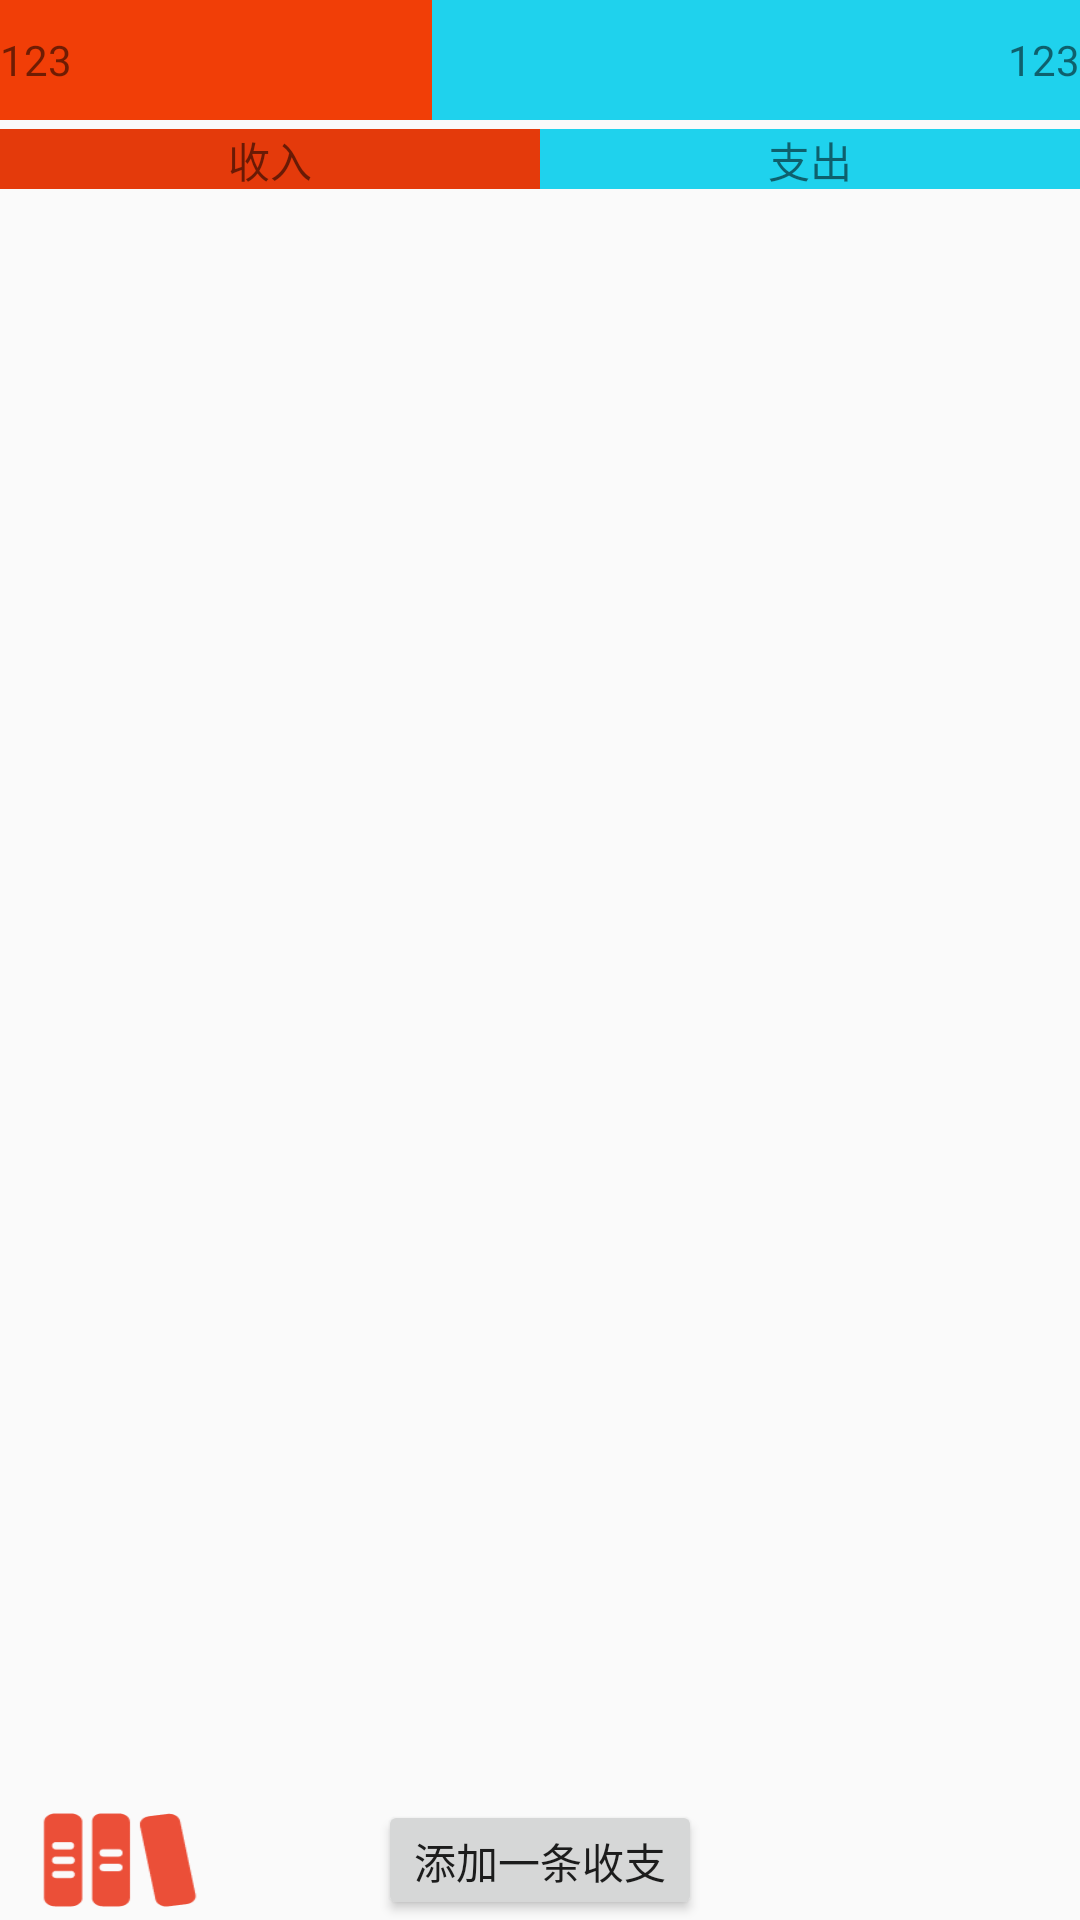

Named icons in this screenshot (1080px x 1920px) and their centers, point (x, y):
bill folder: point (120, 1860)
